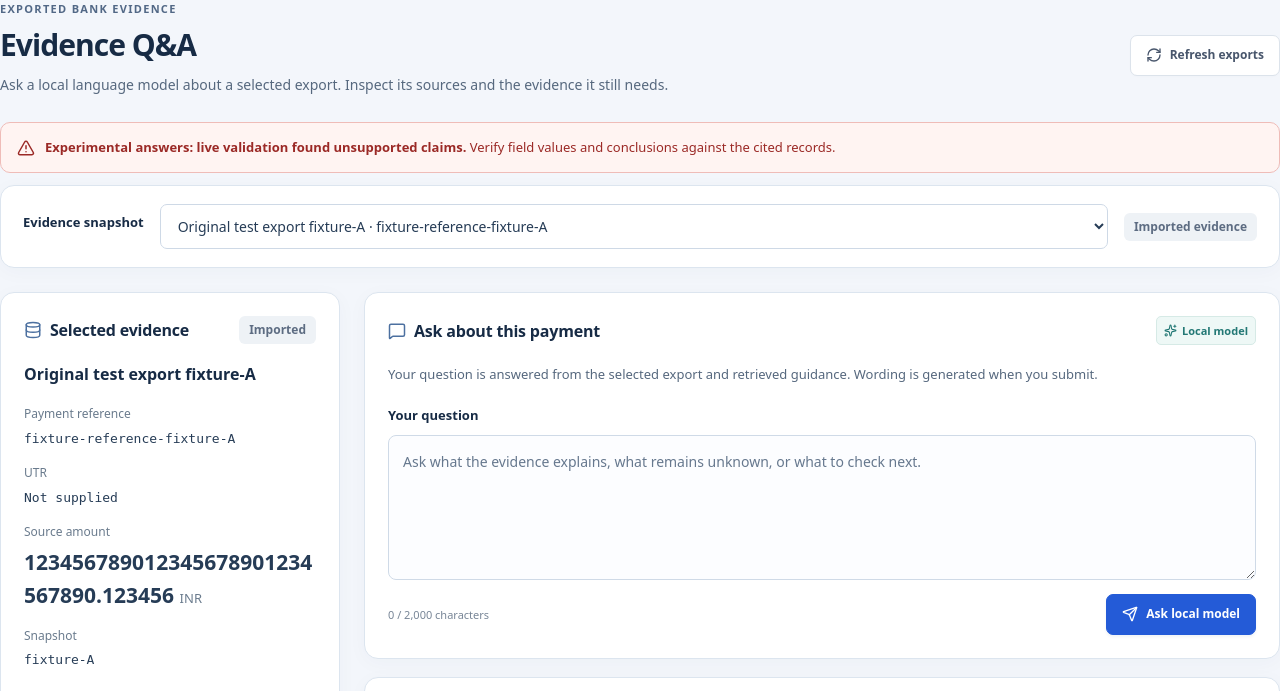
Test case: UAT evidence model questions › explains 504 GATEWAY_TIMEOUT without inventing an answer or discarding the question
Replace the text in the text box labelled "Your question" with "Explain the available export.". click: [822, 507]
box: [388, 434, 1256, 580]
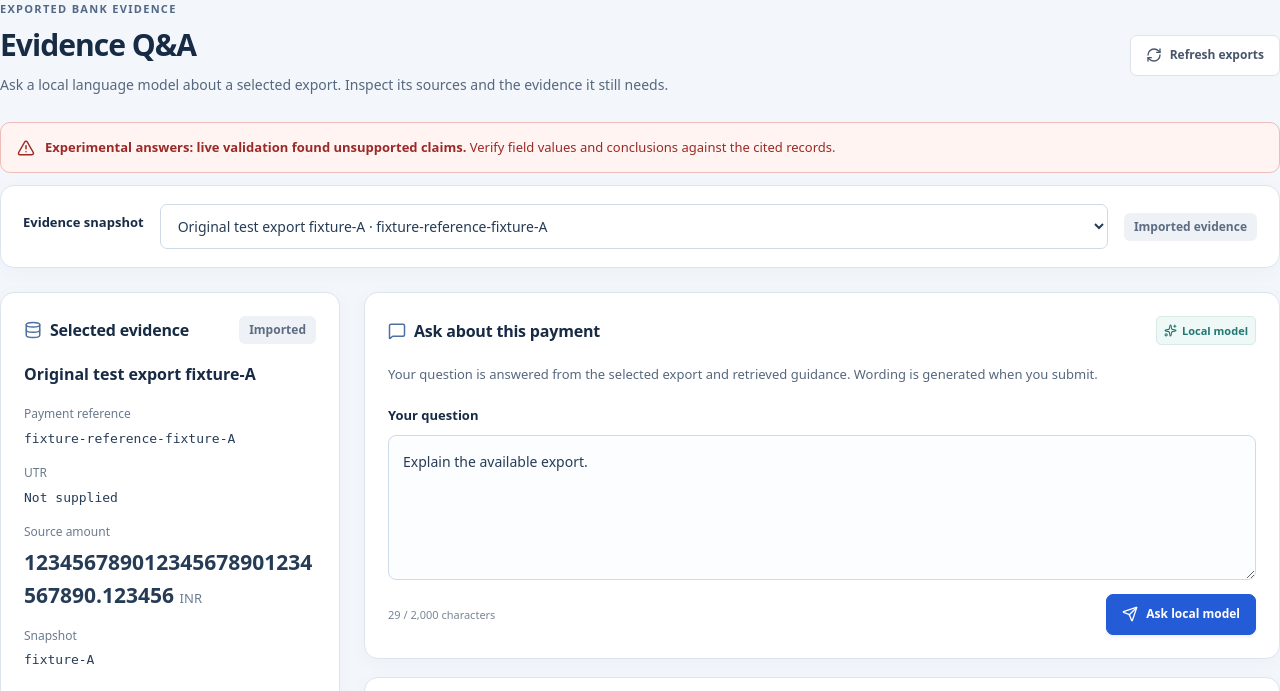
Submit the form labelled "Your question", box [388, 405, 1256, 635]
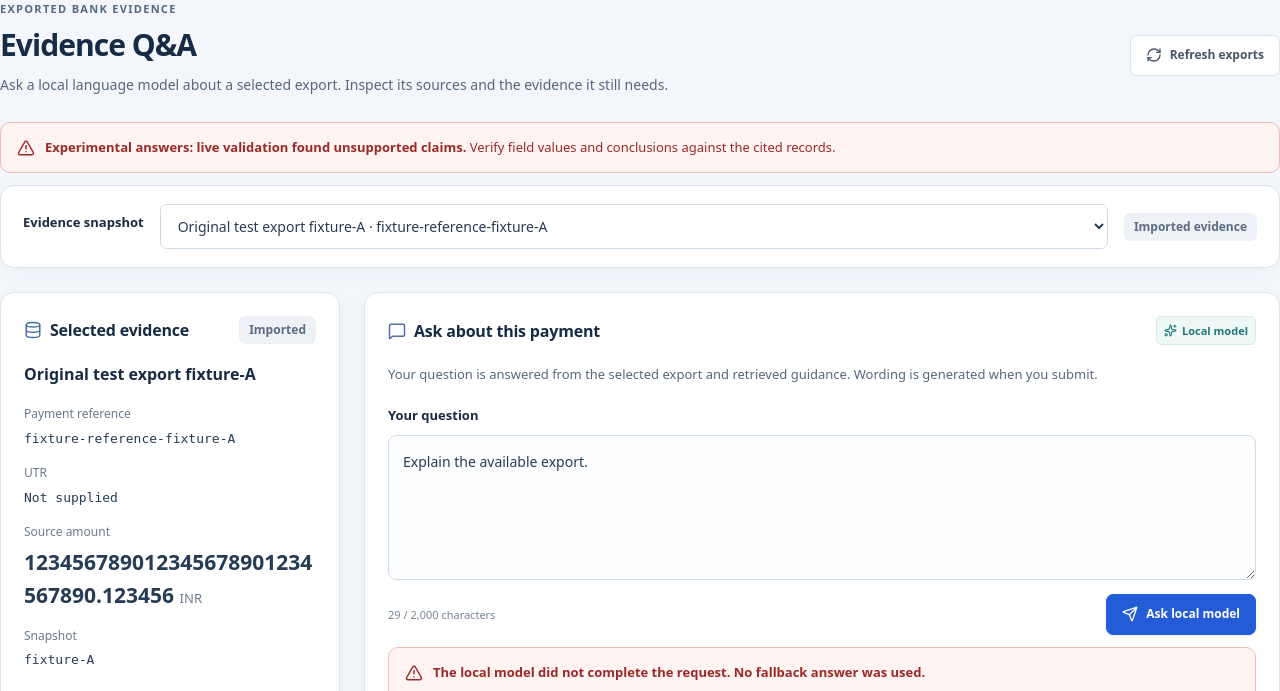
Expected: the button "Ask local model" is enabled, [1106, 594, 1256, 635]
Expected: the message shows "No fallback answer was used.", [433, 663, 925, 681]
